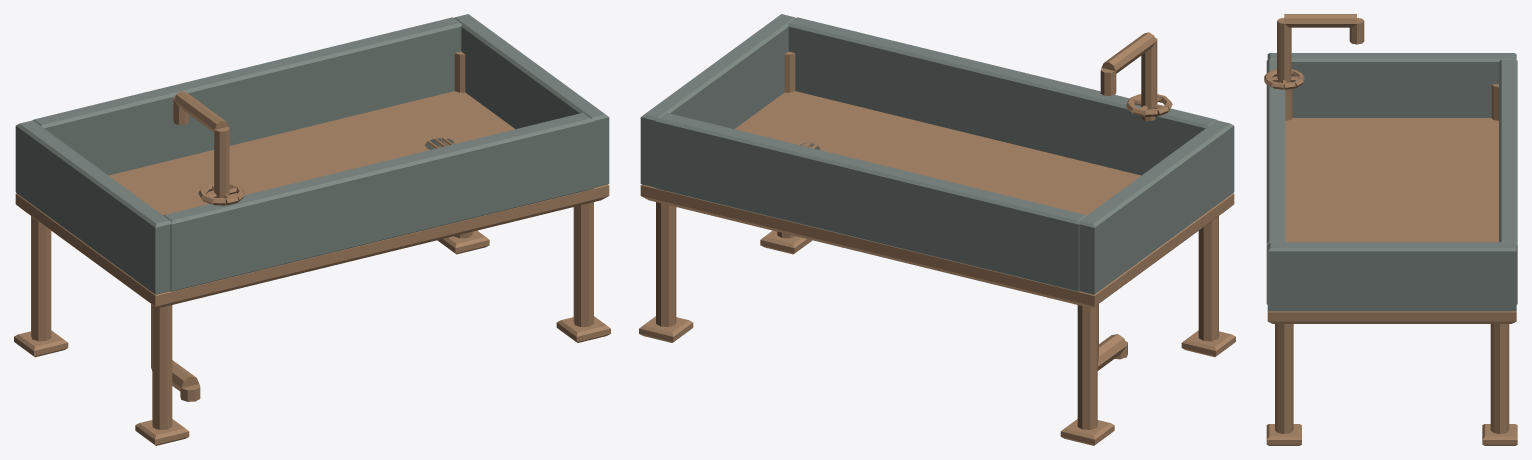
Rendered from FishPreparationStation.fbx.
3 renders of one model, left to right at view 1: azimuth 30°, elevation 25°; view 2: azimuth 150°, elevation 25°; view 3: azimuth 270°, elevation 25°, orthographic. The views are drawn at different scales.
Parts seen in each view (by area): view 1: PreparationTrough__Steel, PreparationTrough__Rust; view 2: PreparationTrough__Steel, PreparationTrough__Rust; view 3: PreparationTrough__Rust, PreparationTrough__Steel.
Boxes of the visible parts, <box> form: PreparationTrough__Steel: <box>15,14,609,294</box>; PreparationTrough__Rust: <box>14,51,610,445</box>; PreparationTrough__Steel: <box>640,14,1234,294</box>; PreparationTrough__Rust: <box>639,32,1235,445</box>; PreparationTrough__Rust: <box>1264,14,1517,445</box>; PreparationTrough__Steel: <box>1266,53,1517,311</box>.
Size of what is drawn, in the model's own units: 2.26 by 1.43 by 1.22.
